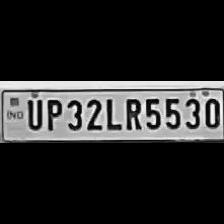0: (201, 94, 221, 130)
2: (84, 95, 104, 131)
3: (62, 96, 82, 132), (182, 94, 200, 130)
5: (142, 94, 162, 130), (162, 94, 180, 130)
L: (102, 96, 120, 130)
P: (43, 96, 63, 132)
R: (122, 95, 142, 131)
U: (22, 96, 42, 130)
